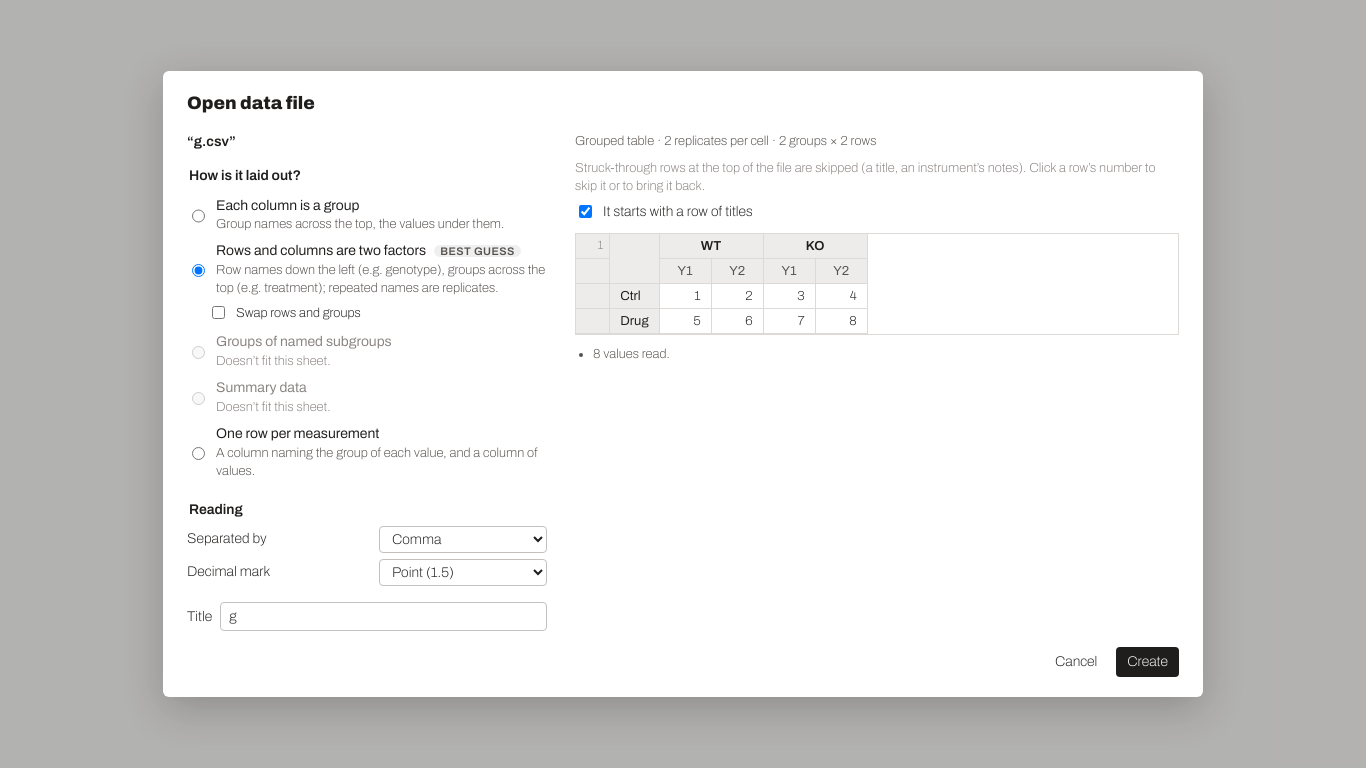
Test case: the Open data file dialog › switches the layout and swaps the factors
Check: the text "best guess" is shown, box [434,245,521,257]
Check: the radio button labelled "two factors" is checked, box [192,244,205,297]
Click the checkbox labelled "Swap rows and groups" at (218, 313), box [212,306,225,319]
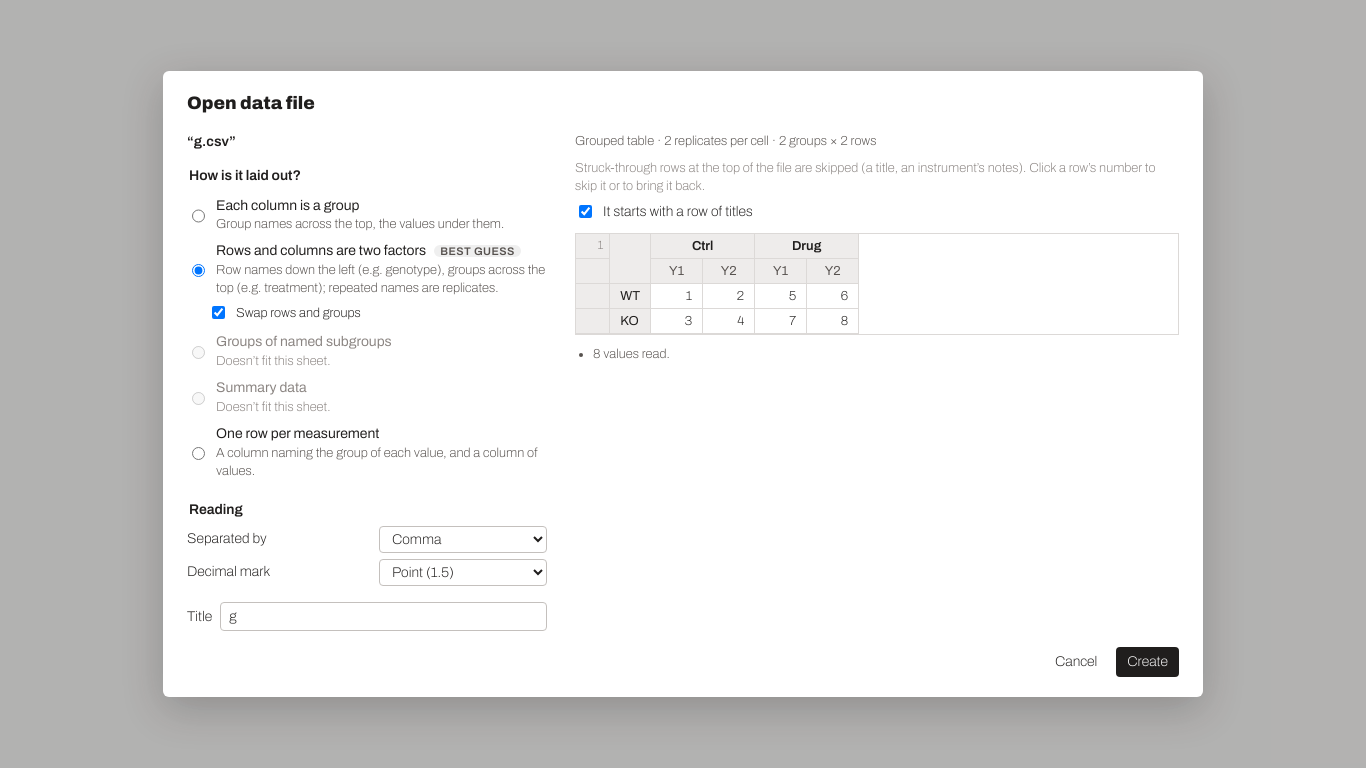
Check: the column heading "Ctrl" is shown, box [651,234,755,258]
Click the radio button labelled "Each column is a group" at (198, 216), box [192,199,205,234]
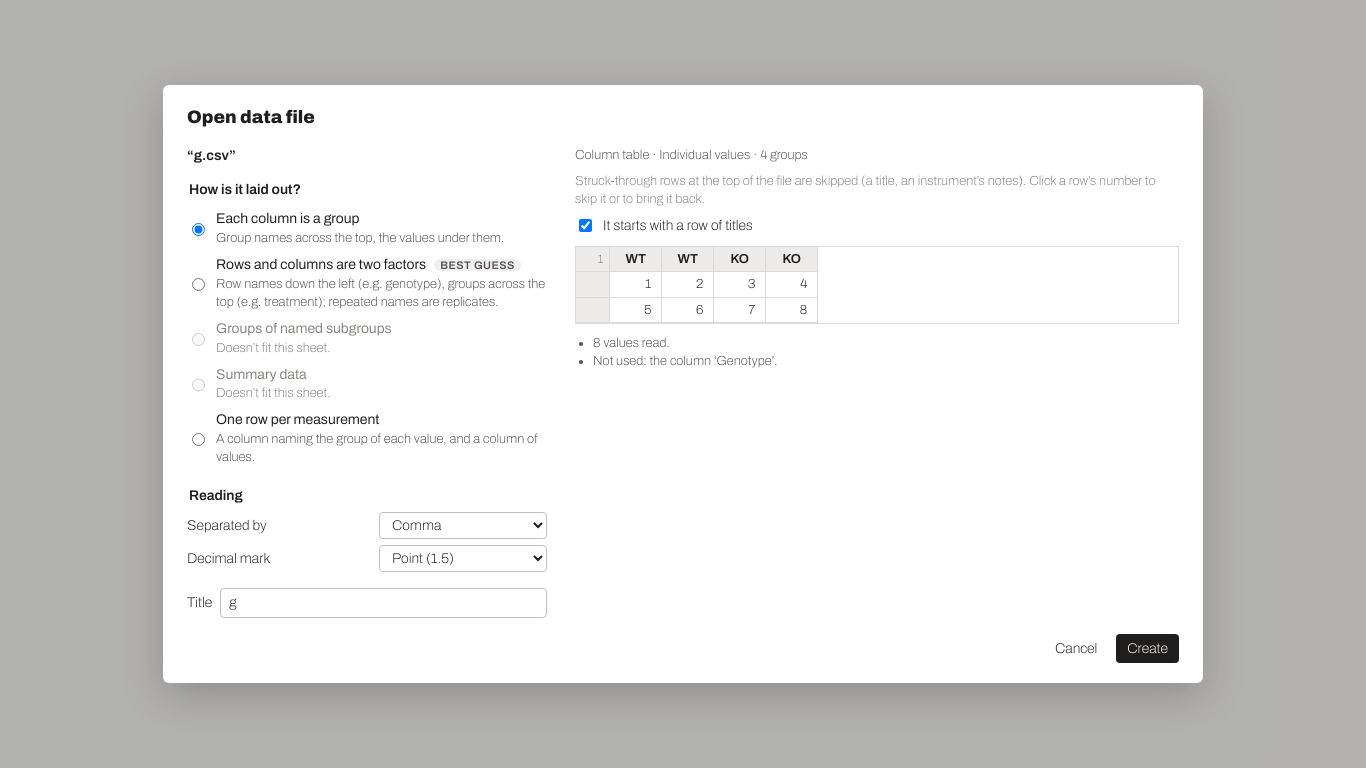
Check: the text "Column table · Individual values · 4 groups" is shown, box [575,148,808,162]
